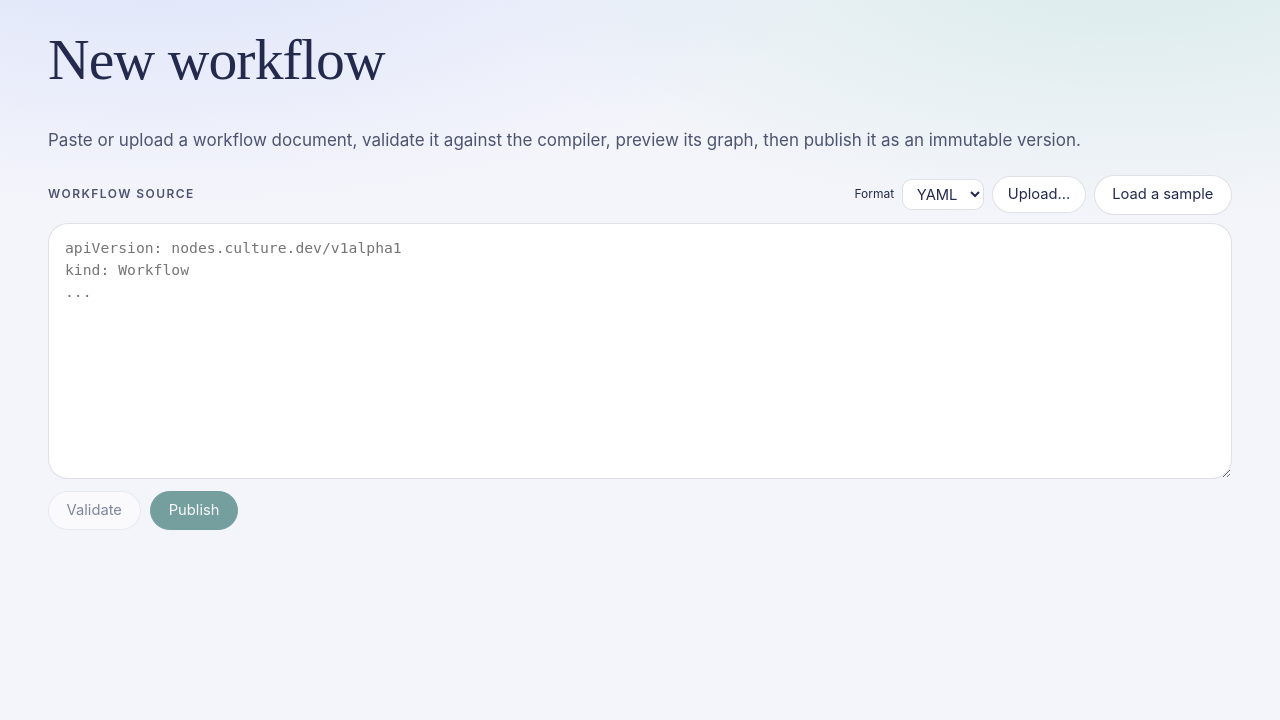
it: AuthorWorkflow: paste and validate › shows a clean-diagnostics note and enables Publish for a valid document
This screenshot has width=1280, height=720.
In the text box labelled "Workflow source": (640, 351) [48,223,1232,479], type "apiVersion: nodes.culture.dev/v1alpha1 kind: Workflow metadata:   name: hand-authored   version: 1.0.0   ownerRef: team/platform-ai spec:   entry: greet   nodes:     greet:       kind: agent       own"
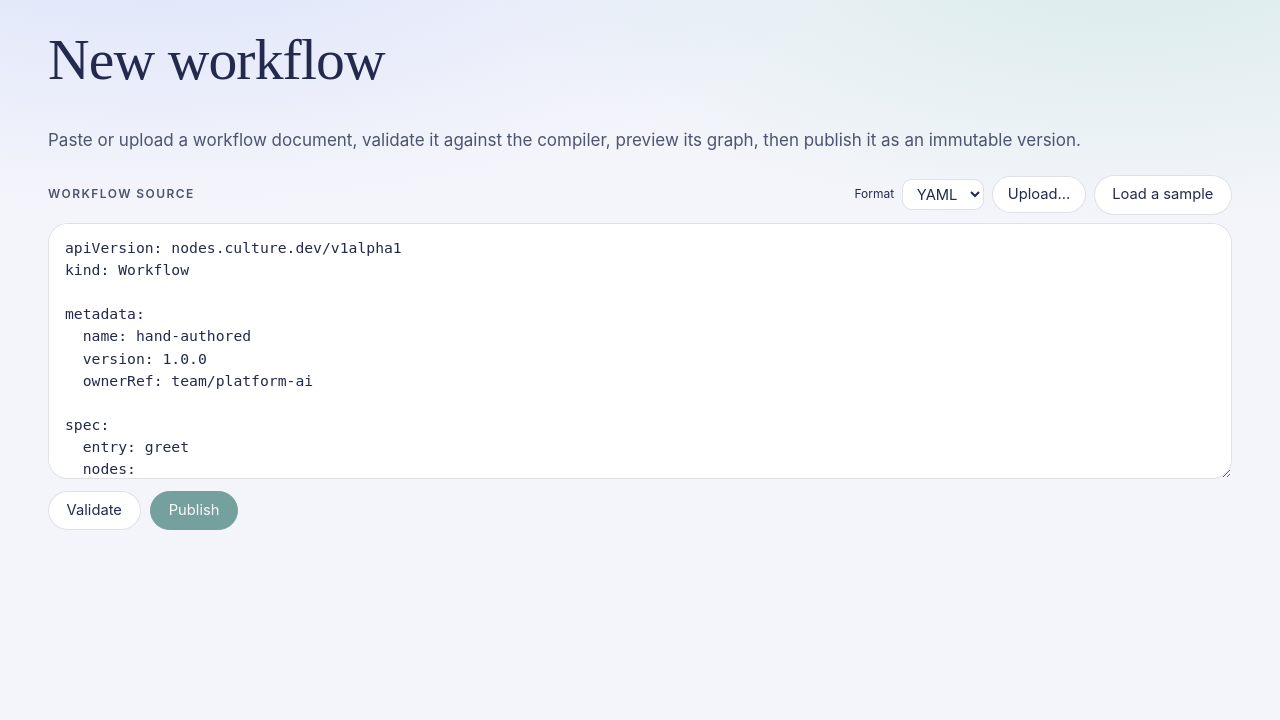
Click the button "Validate": (94, 510) [48,491,140,530]
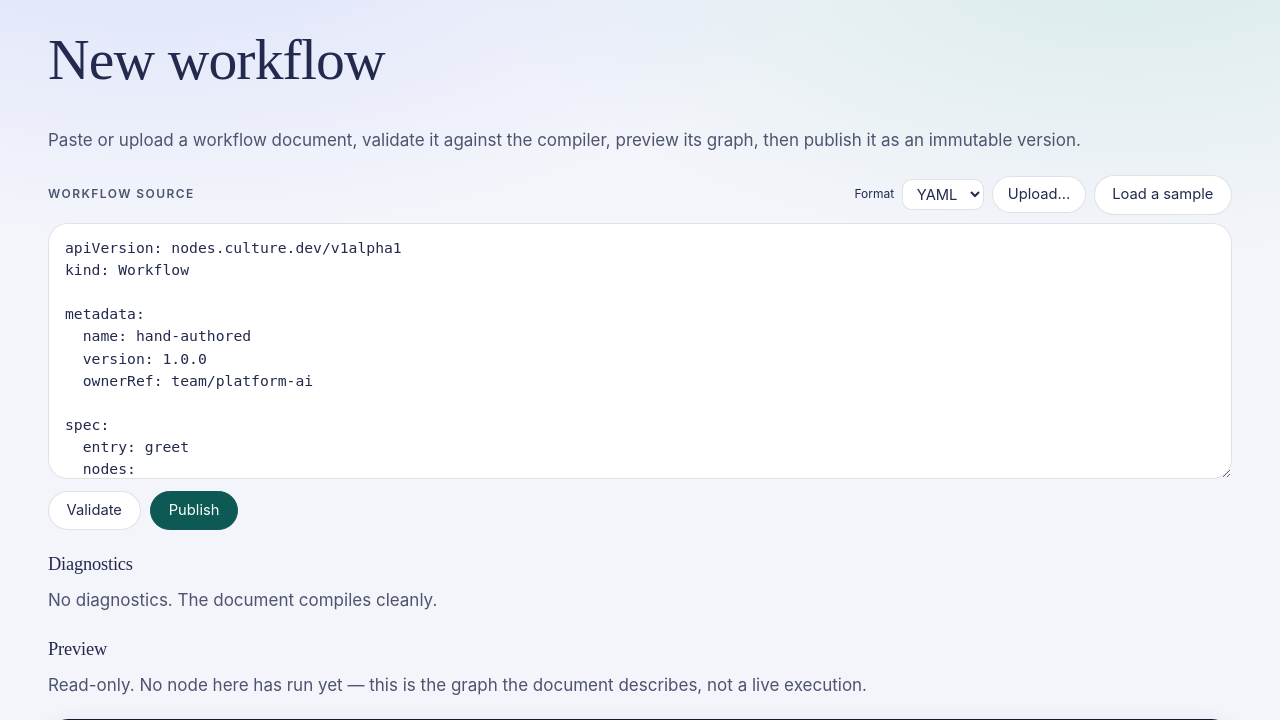
Now the text "No diagnostics. The document compiles cleanly." is shown, box [48,590,437,610]
Now the button "Publish" is enabled, box [150,491,238,530]
